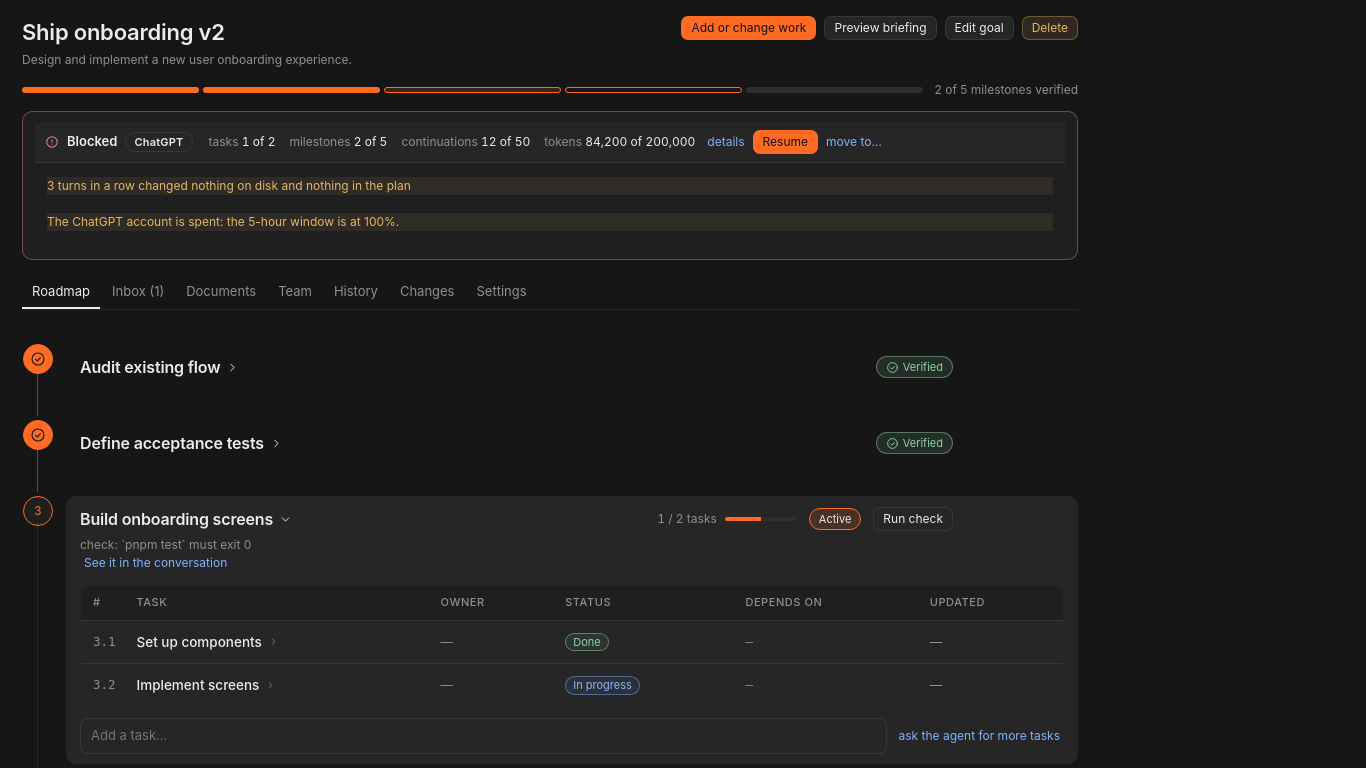
Test: the Big Thing screen › shows what blocked a run, from the journal
Expected: the text "3 turns in a row changed nothing" is shown, [47,178,411,193]
Click the tab "History".
click(356, 292)  # box [324,276,388,309]
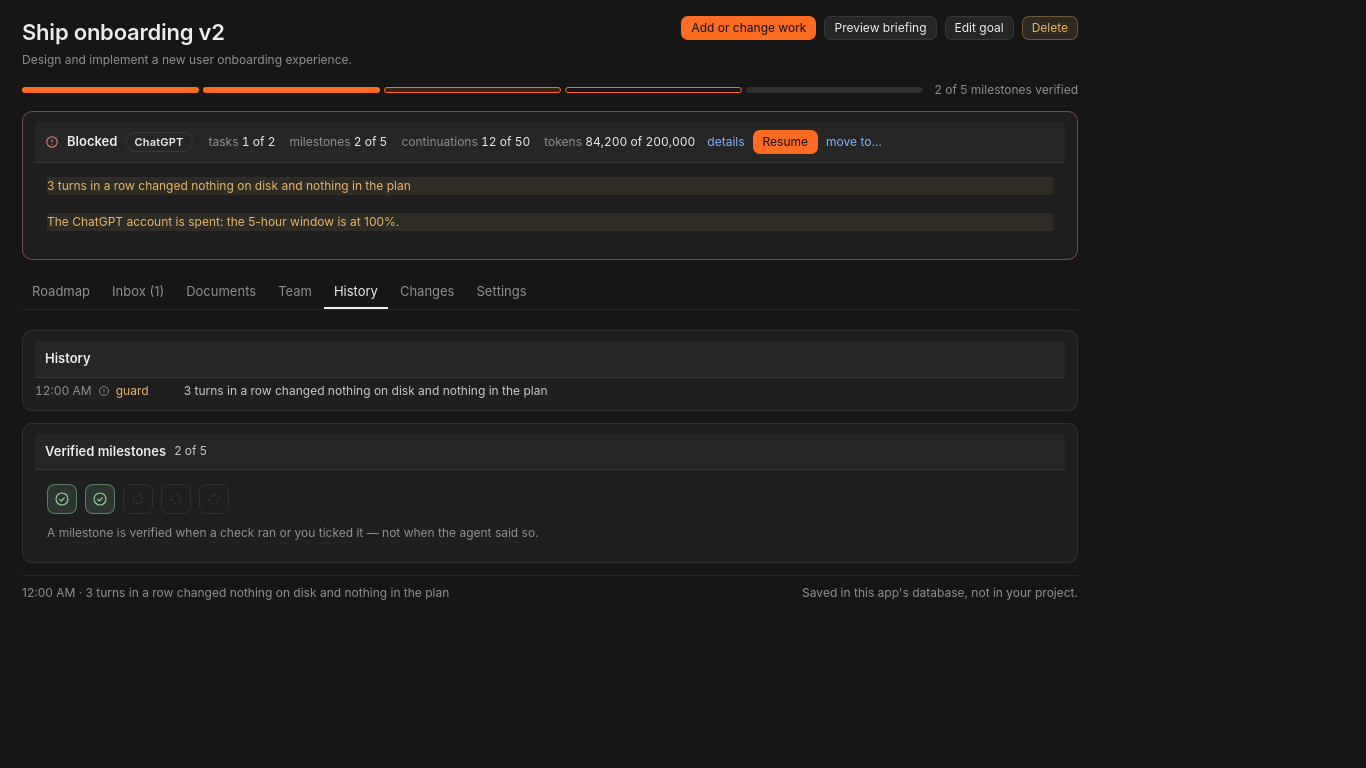
Expected: the text "3 turns in a row changed nothing" is shown 3 times, [47,177,1053,195]; [184,382,548,400]; [22,575,1078,602]
